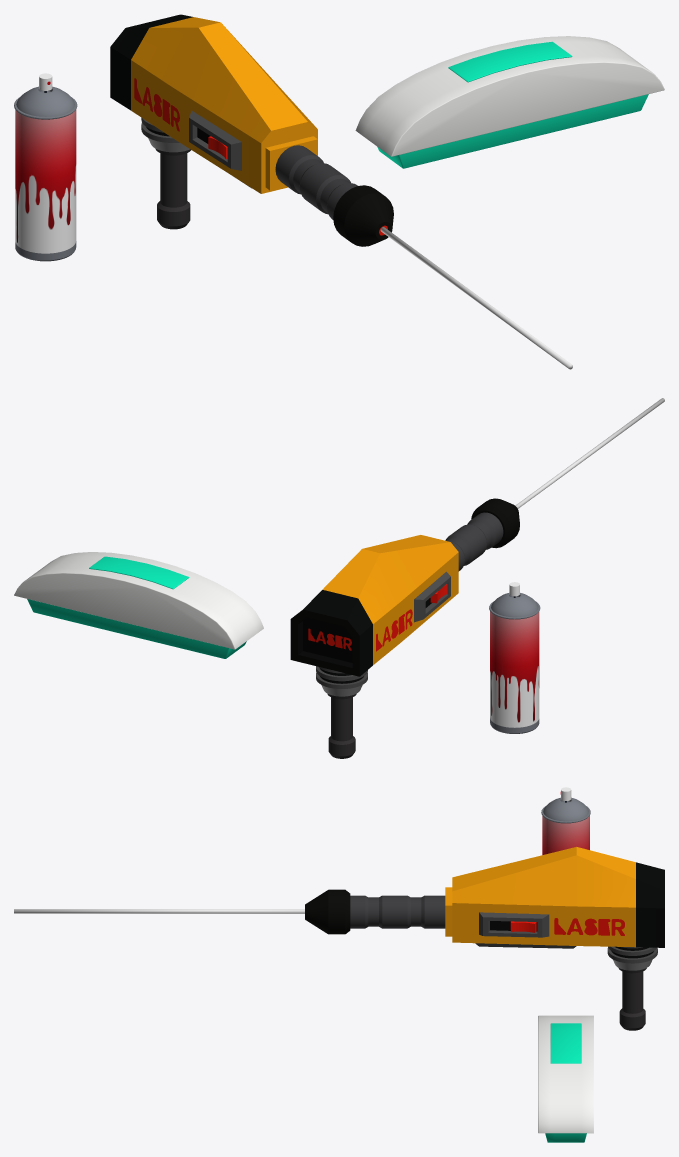
The model's file is Tools.fbx.
The picture shows the model from 3 angles, top to bottom: view 1: azimuth 30°, elevation 25°; view 2: azimuth 150°, elevation 25°; view 3: azimuth 270°, elevation 25°; orthographic projection. The views are drawn at different scales.
Visible parts, largest first — view 1: Laser Cutter, Heater, Paint, Laser; view 2: Laser Cutter, Heater, Paint, Laser; view 3: Laser Cutter, Heater, Paint, Laser.
Part boxes in pixels (box(x1,y1,x2,y2)): Laser Cutter: box(110, 14, 393, 246); Heater: box(355, 36, 664, 168); Paint: box(14, 73, 77, 261); Laser: box(380, 227, 572, 369); Laser Cutter: box(290, 498, 519, 758); Heater: box(14, 552, 263, 658); Paint: box(489, 582, 540, 733); Laser: box(515, 398, 664, 508); Laser Cutter: box(305, 847, 664, 1030); Heater: box(538, 1015, 593, 1142); Paint: box(541, 787, 590, 854); Laser: box(14, 909, 304, 913).
Size of the model in its own units: 4048 by 1384 by 4656.
